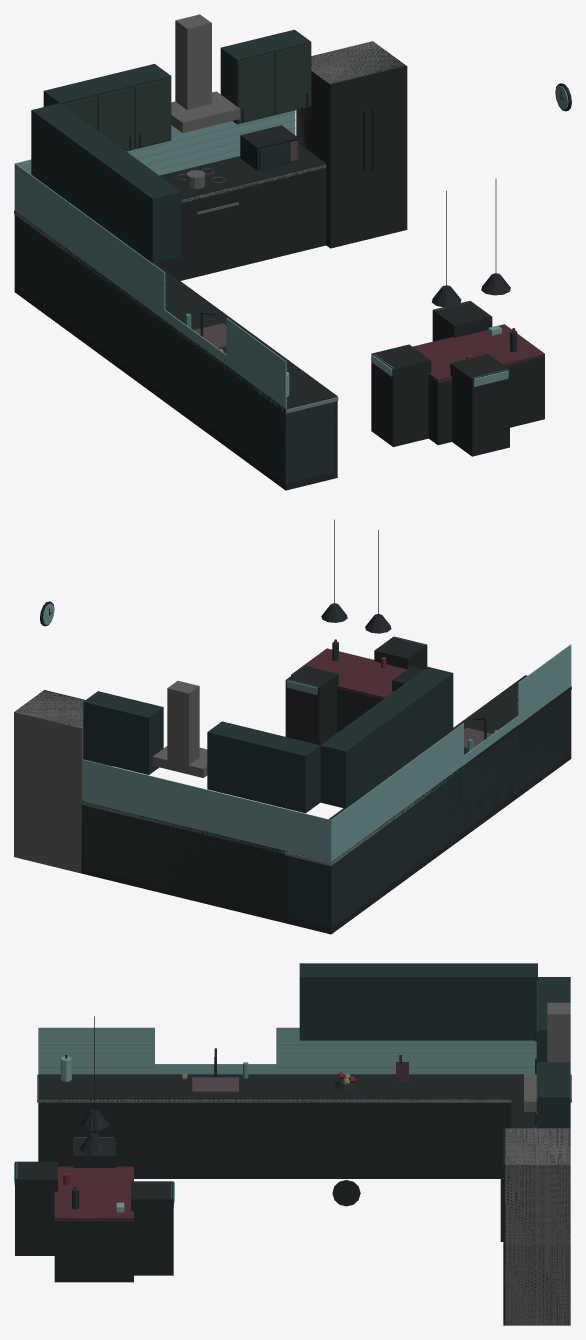
Rendered from bucatarie_lexy.glb.
3 views of the same model, one above another, from view 1: azimuth 30°, elevation 25°; view 2: azimuth 150°, elevation 25°; view 3: azimuth 270°, elevation 25° (orthographic). The views are drawn at different scales.
Visible parts, largest first — view 1: Bucatarie, Coliziune; view 2: Bucatarie, Coliziune; view 3: Coliziune, Bucatarie.
Boxes of the visible parts, <box> form: Bucatarie: <box>14,14,571,490</box>; Coliziune: <box>14,41,544,490</box>; Bucatarie: <box>14,519,571,934</box>; Coliziune: <box>16,636,571,933</box>; Coliziune: <box>15,1074,570,1325</box>; Bucatarie: <box>14,963,571,1325</box>.
Size of the model in its own units: 5.3 by 2.7 by 5.98.
